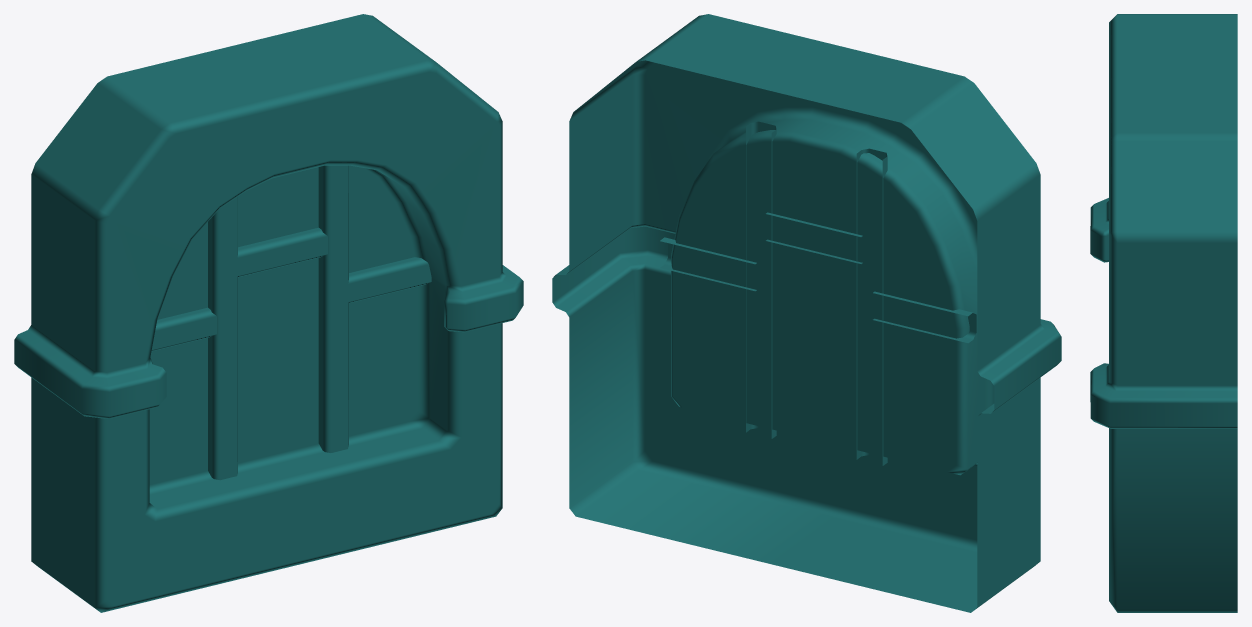
File: SM_Window_01.fbx
The picture shows the model from 3 angles, left to right: view 1: azimuth 30°, elevation 25°; view 2: azimuth 150°, elevation 25°; view 3: azimuth 270°, elevation 25°; orthographic projection. The views are drawn at different scales.
Parts seen in each view (by area): view 1: Object001; view 2: Object001; view 3: Object001.
Boxes of the visible parts, x1,y1,x2,y2 form: Object001: (14,14,523,612); Object001: (552,14,1061,612); Object001: (1090,14,1237,612).
Size of the model in its own units: 223 by 229 by 67.98.
